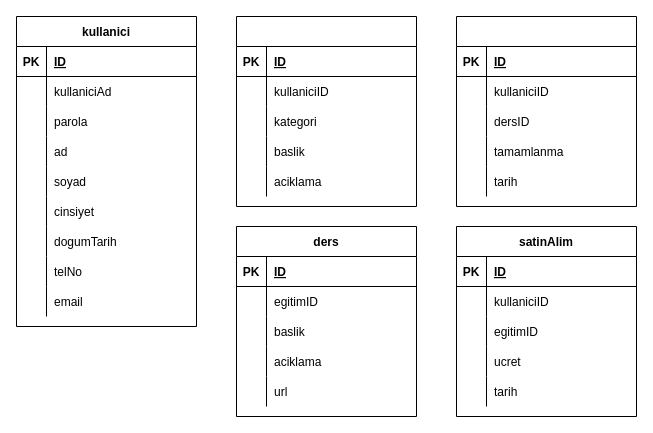
Image size: 653x433. Some labels were removed from this diagram. The shapes that lost their labels are listed below. From the top down, each one's box as (x1, y1, x2, y2) in pixels, then its label:
(236, 16, 416, 206): egitim
(456, 16, 636, 206): durum
